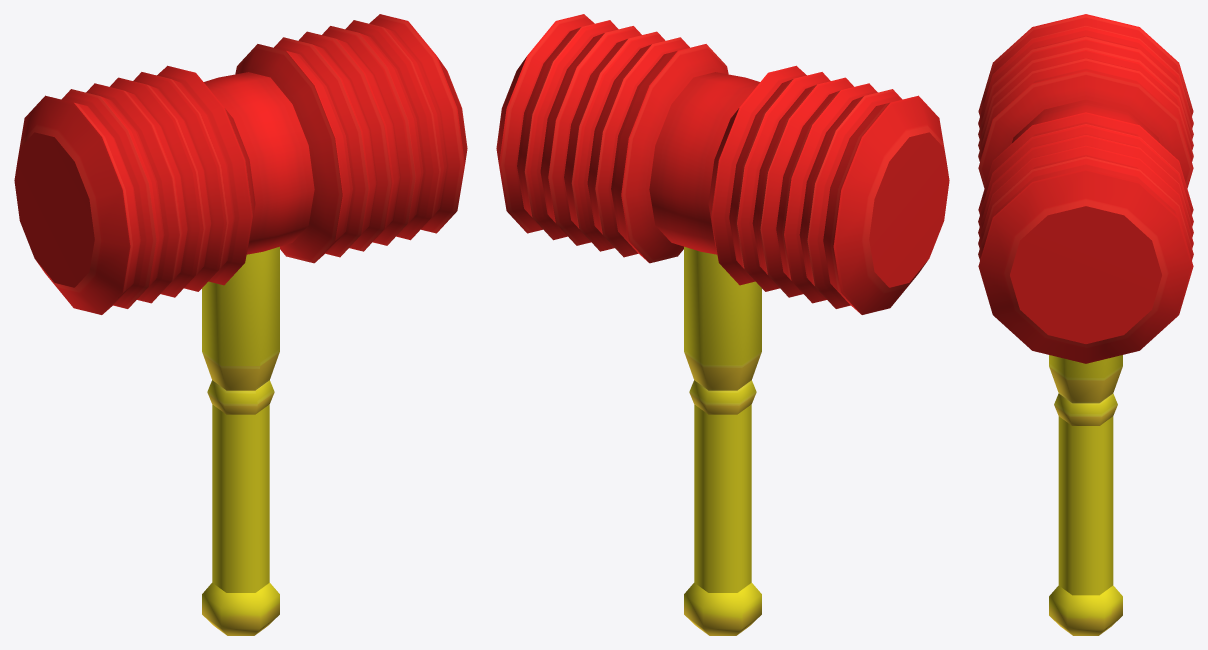
Rendered from Martillo.fbx.
3 renders of one model, left to right at view 1: azimuth 30°, elevation 25°; view 2: azimuth 150°, elevation 25°; view 3: azimuth 270°, elevation 25°, orthographic. The views are drawn at different scales.
Visible parts, largest first — view 1: Circle.001; view 2: Circle.001; view 3: Circle.001.
Part boxes in pixels (x1,y1,x2,y2): Circle.001: [14, 14, 467, 635]; Circle.001: [496, 14, 949, 635]; Circle.001: [978, 14, 1193, 635].
Size of the model in its own units: 52.15 by 76.02 by 27.51.
